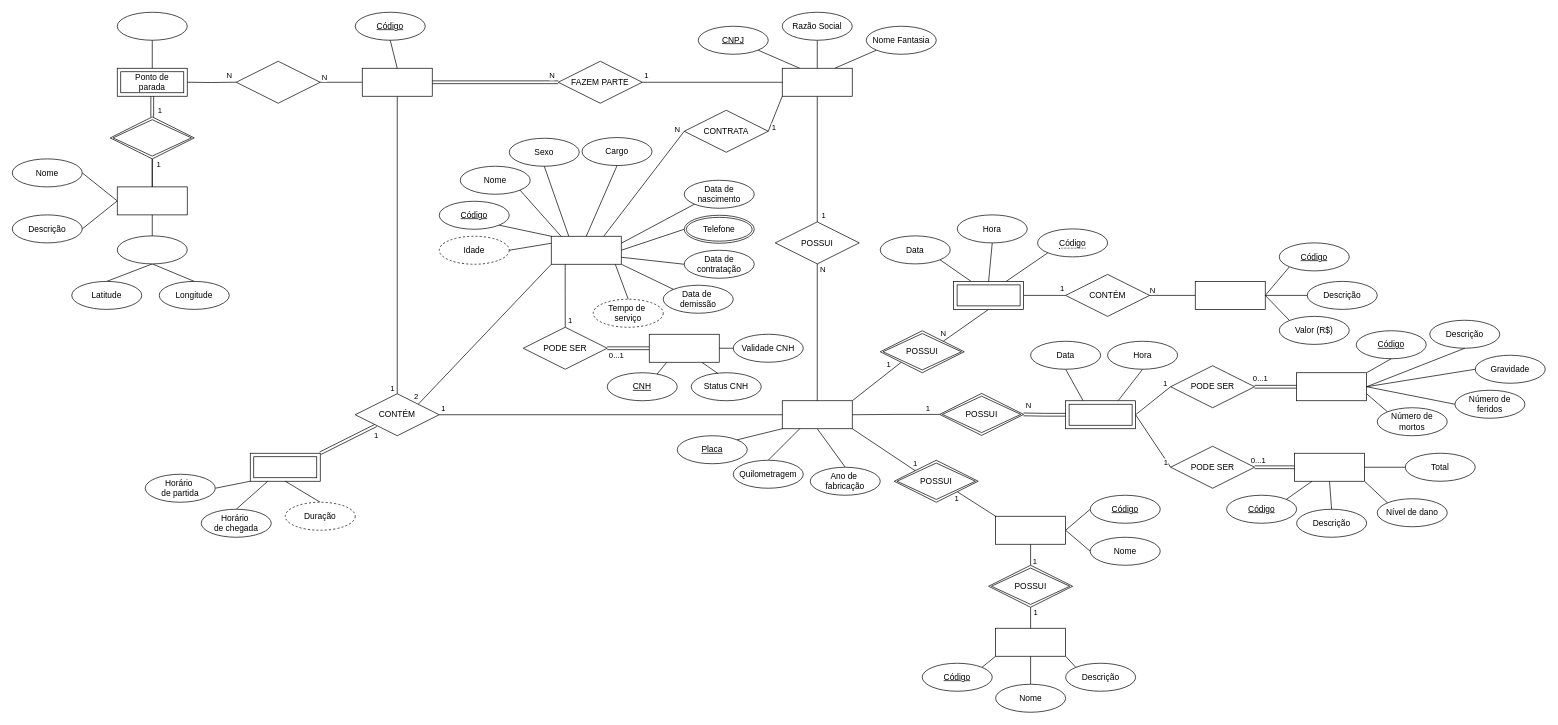
Image size: 1558x725. Some labels were removed from this diagram. The shapes that lost their labels are listed below. From the top down, each one's centre as x and y in pixels, then its label:
At (x=152, y=26): "Posição".
At (x=278, y=82): "É UM ITINERÁRIO DE".
At (x=397, y=82): "Linha".
At (x=817, y=82): "Empresa".
At (x=152, y=137): "É UM".
At (x=152, y=200): "Local".
At (x=152, y=249): "Coordenada geográfica".
At (x=586, y=250): "Funcionário".
At (x=988, y=295): "Manutenção".
At (x=1230, y=295): "Serviço".
At (x=684, y=348): "Motorista".
At (x=1331, y=386): "Acidente".
At (x=817, y=414): "Veículo".
At (x=1100, y=414): "Ocorrência".
At (x=285, y=467): "Viagem".
At (x=1329, y=467): "Avaria".
At (x=1030, y=530): "Modelo".
At (x=1030, y=642): "Categoria".
